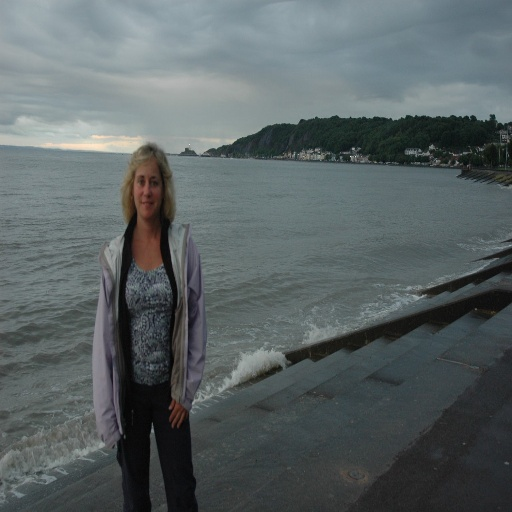hand: (168, 399, 186, 429)
